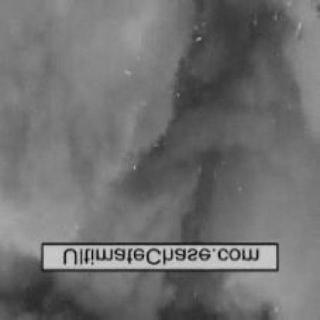Smoke: (24, 15, 312, 297)
